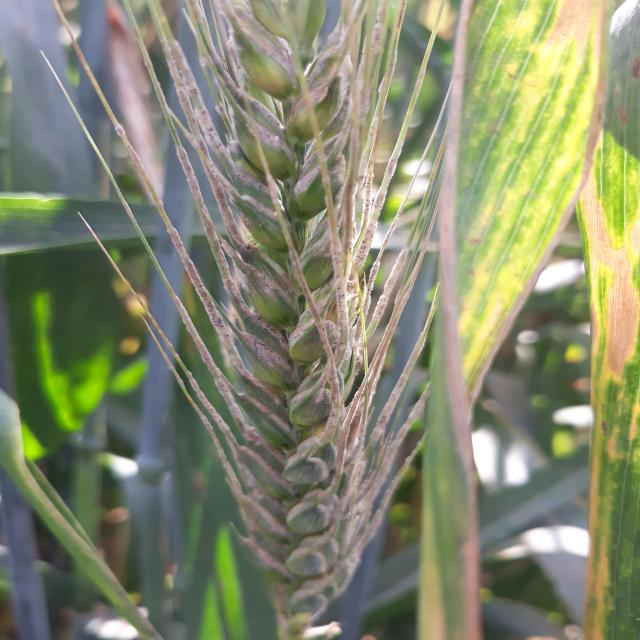powder_mildew: (43, 2, 480, 636), (476, 8, 636, 388), (572, 198, 640, 639)
